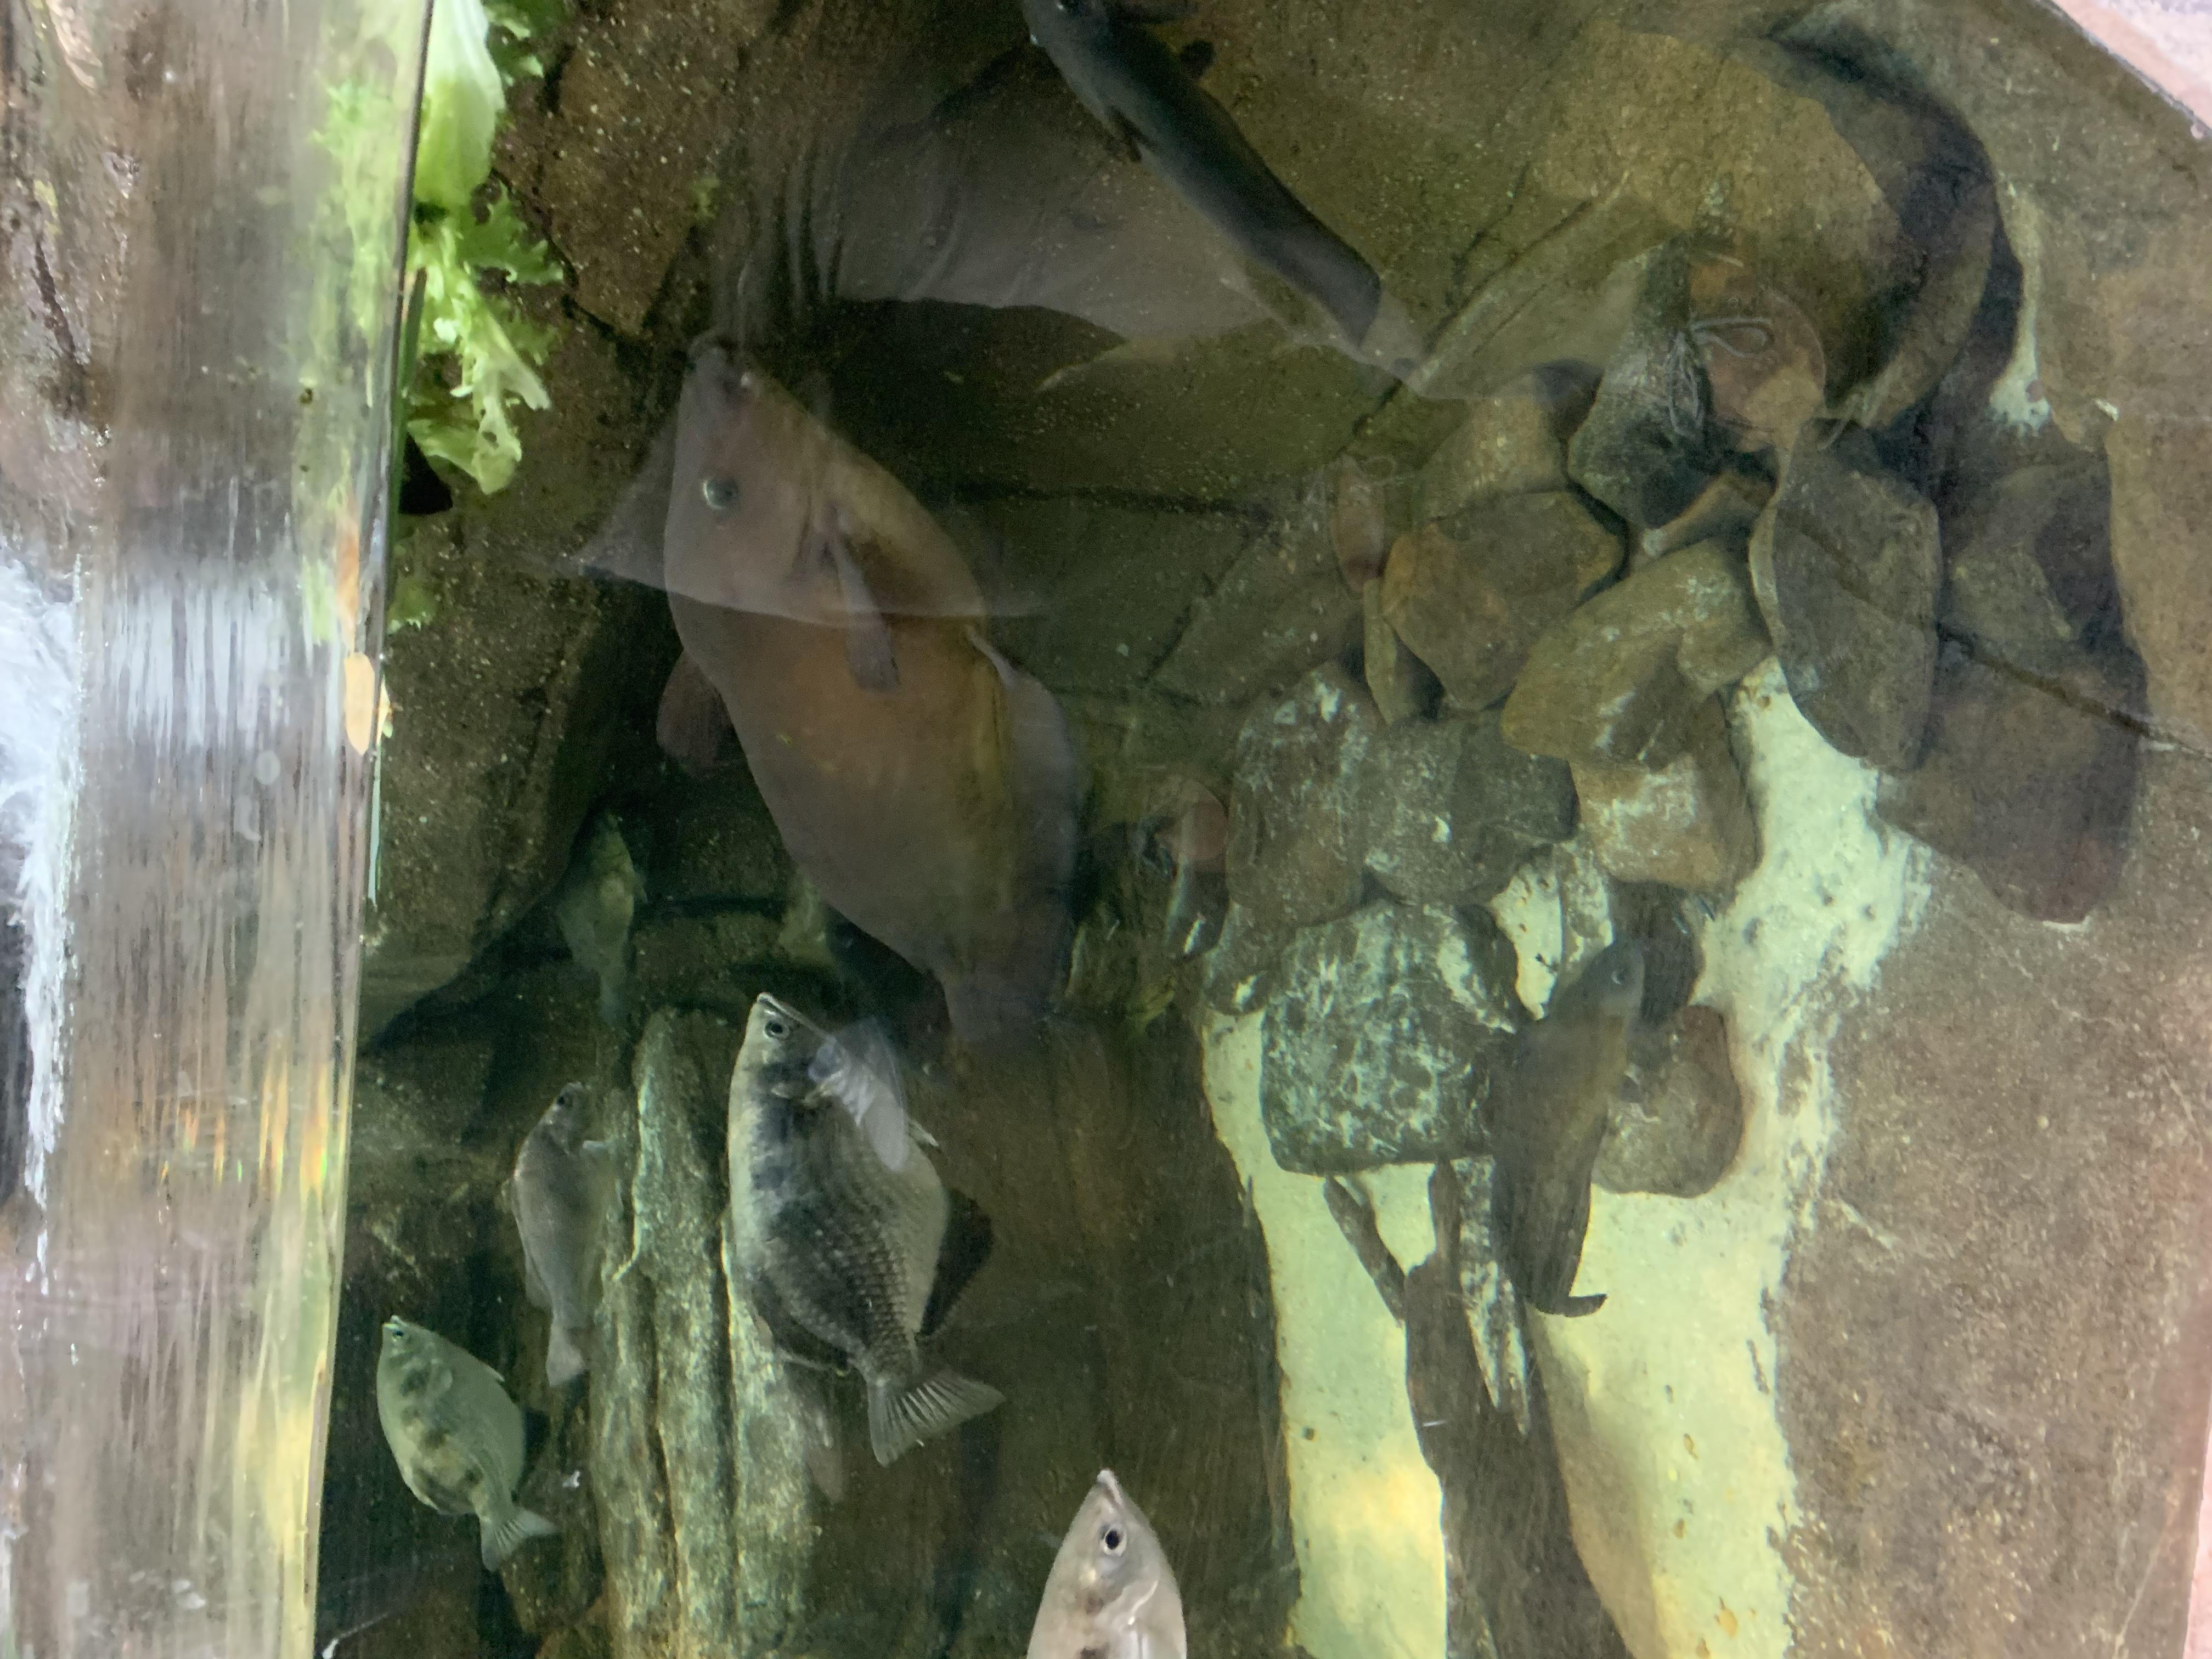fish: (662, 345, 1082, 1065), (718, 995, 1008, 1474), (1007, 0, 1383, 354), (371, 1309, 563, 1575), (493, 1077, 627, 1389), (1017, 1464, 1198, 1659)
